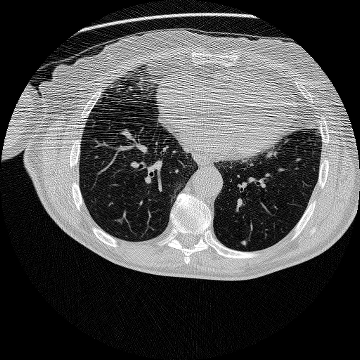nodule: (242, 241, 246, 245)
